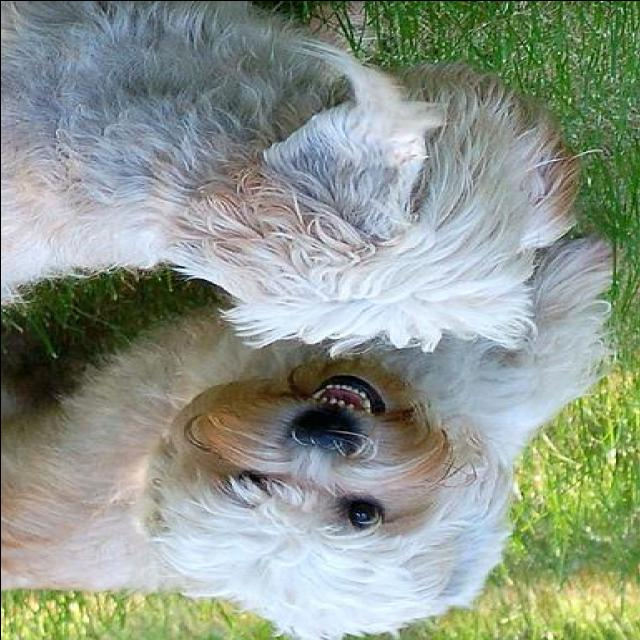dandie_dinmont: (4, 224, 622, 636), (4, 2, 588, 362)
